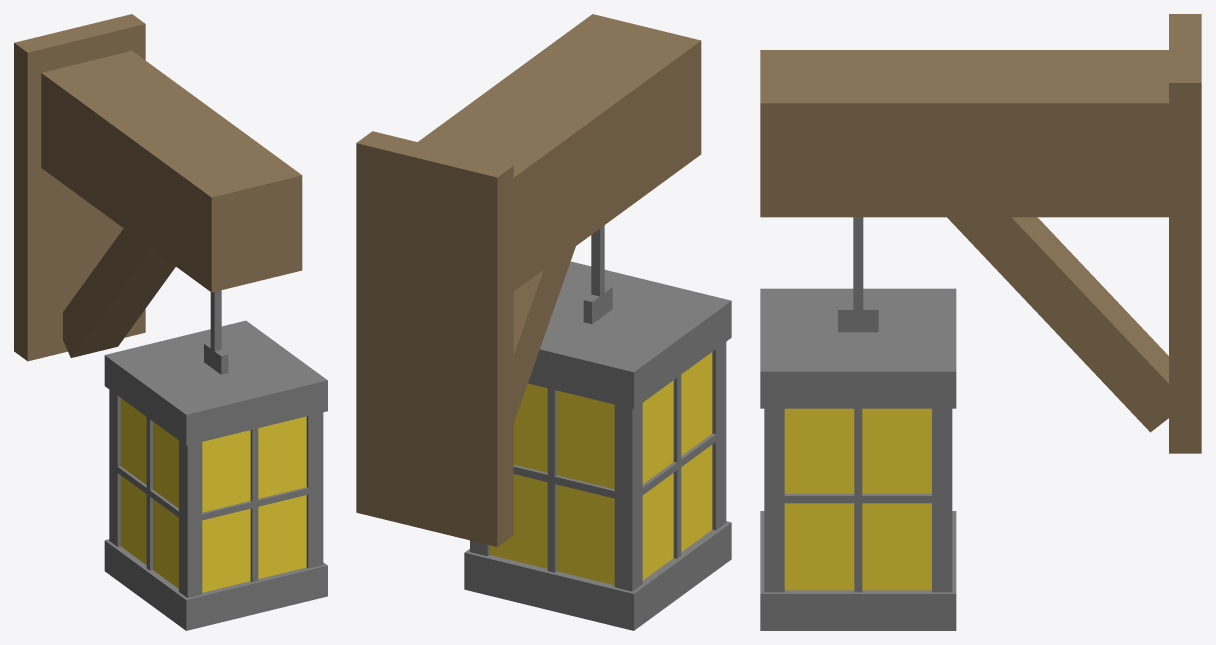
File: lantern_wall.glb
The picture shows the model from 3 angles, left to right: view 1: azimuth 30°, elevation 25°; view 2: azimuth 150°, elevation 25°; view 3: azimuth 270°, elevation 25°; orthographic projection. The views are drawn at different scales.
Visible parts, largest first — view 1: lantern_wall; view 2: lantern_wall; view 3: lantern_wall.
Part boxes in pixels (bbox=[...]): lantern_wall: bbox=[14, 14, 327, 630]; lantern_wall: bbox=[356, 14, 731, 630]; lantern_wall: bbox=[760, 14, 1201, 630].
Size of the model in its own units: 0.24 by 0.73 by 0.54.
